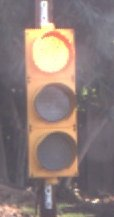Red: (22, 22, 85, 199)
